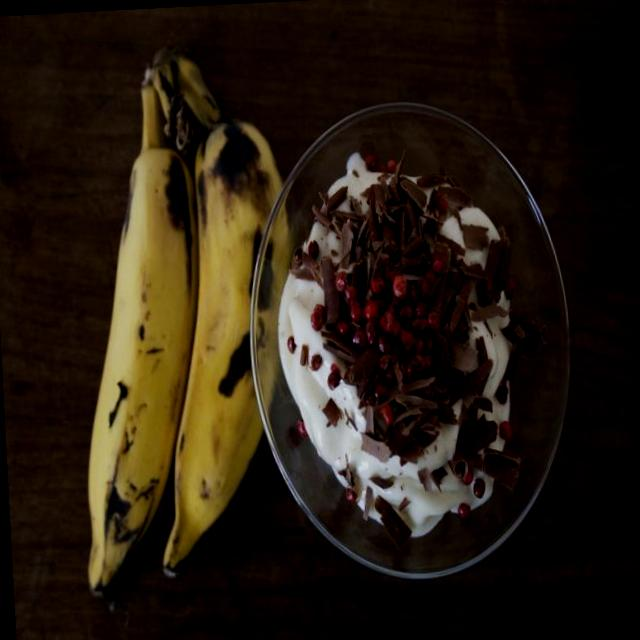Banana: (51, 44, 316, 596)
